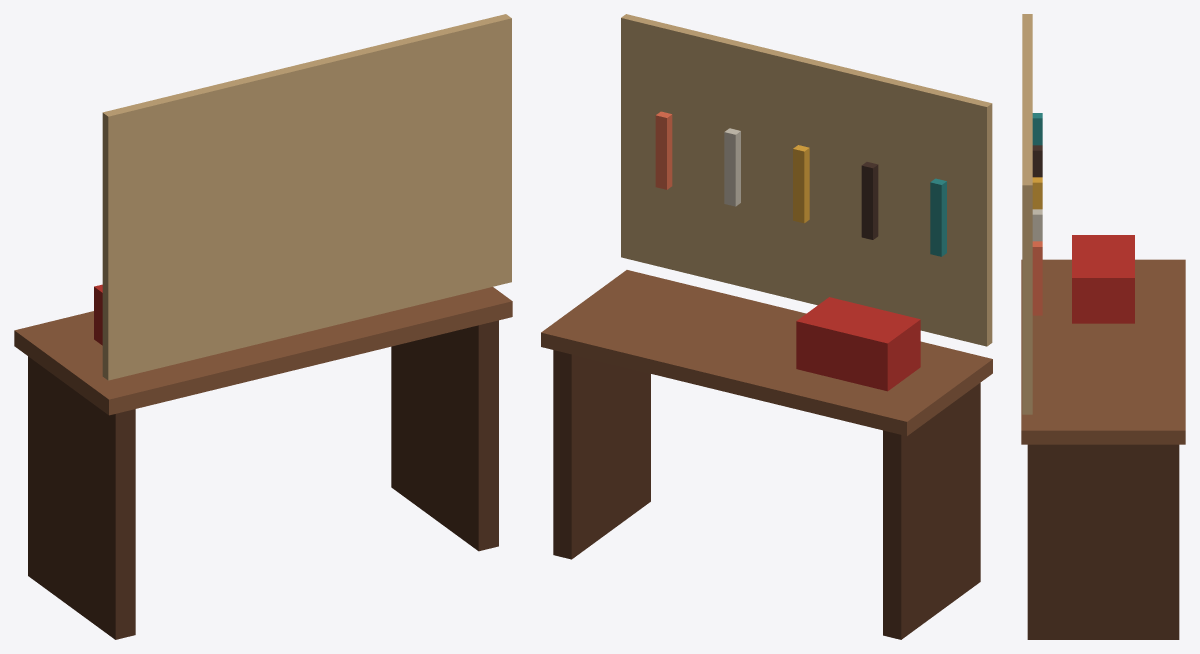
The model's file is workbench.glb.
3 views of the same model, side by side, from view 1: azimuth 30°, elevation 25°; view 2: azimuth 150°, elevation 25°; view 3: azimuth 270°, elevation 25° (orthographic). The views are drawn at different scales.
Parts seen in each view (by area): view 1: Box4, Box3, Box2, Box1; view 2: Box4, Box1, Box3, Box2, Box10, Box5, Box8, Box7, Box9, Box6; view 3: Box2, Box1, Box10, Box4, Box5, Box6, Box7, Box8, Box9.
Part boxes in pixels (x1=…): Box4: x1=102, y1=14, x2=511, y2=380; Box3: x1=28, y1=356, x2=135, y2=639; Box2: x1=391, y1=320, x2=498, y2=551; Box1: x1=14, y1=287, x2=512, y2=415; Box4: x1=621, y1=14, x2=992, y2=346; Box1: x1=541, y1=270, x2=992, y2=435; Box3: x1=883, y1=383, x2=980, y2=639; Box2: x1=553, y1=350, x2=650, y2=559; Box10: x1=796, y1=297, x2=920, y2=391; Box5: x1=655, y1=111, x2=672, y2=189; Box8: x1=861, y1=162, x2=878, y2=239; Box7: x1=793, y1=145, x2=809, y2=223; Box9: x1=930, y1=178, x2=946, y2=256; Box6: x1=724, y1=128, x2=740, y2=206; Box2: x1=1027, y1=444, x2=1179, y2=639; Box1: x1=1021, y1=259, x2=1185, y2=444; Box10: x1=1072, y1=235, x2=1134, y2=323; Box4: x1=1022, y1=14, x2=1032, y2=414; Box5: x1=1032, y1=241, x2=1042, y2=315; Box6: x1=1032, y1=209, x2=1042, y2=241; Box7: x1=1032, y1=177, x2=1042, y2=209; Box8: x1=1032, y1=145, x2=1042, y2=177; Box9: x1=1032, y1=113, x2=1042, y2=145.
Bounding box in the file's own units: 1.6 × 2 × 0.65.
